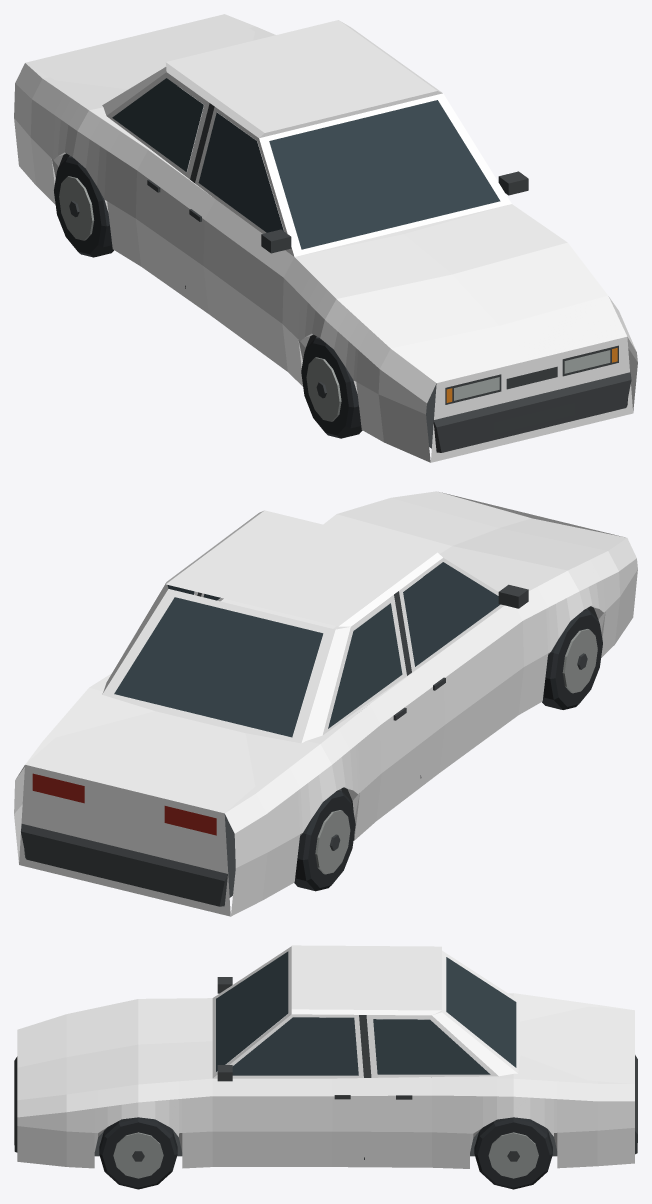
Rendered from sanga_kairo_gts.glb.
The picture shows the model from 3 angles, top to bottom: view 1: azimuth 30°, elevation 25°; view 2: azimuth 150°, elevation 25°; view 3: azimuth 270°, elevation 25°; orthographic projection. The views are drawn at different scales.
Parts seen in each view (by area): view 1: sanga_kairo_gts; view 2: sanga_kairo_gts; view 3: sanga_kairo_gts.
Part boxes in pixels (<box>): sanga_kairo_gts: <box>14,14,637,462</box>; sanga_kairo_gts: <box>14,491,637,916</box>; sanga_kairo_gts: <box>14,945,637,1189</box>.
Bounding box in the file's own units: 1.84 × 1.46 × 4.97.
8 materials, 1 textured.
